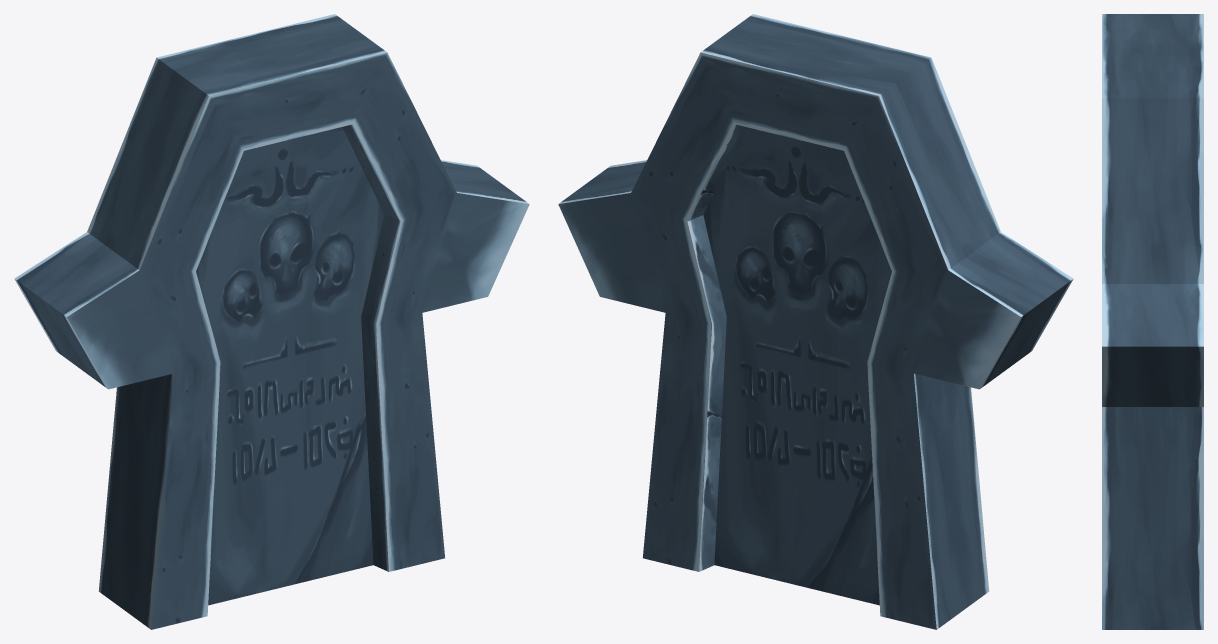
The model's file is SM_PROP_gravestone_v09_01.fbx.
3 views of the same model, side by side, from view 1: azimuth 30°, elevation 25°; view 2: azimuth 150°, elevation 25°; view 3: azimuth 270°, elevation 25° (orthographic). The views are drawn at different scales.
Visible parts, largest first — view 1: SM_PROP_gravestone_v09_01; view 2: SM_PROP_gravestone_v09_01; view 3: SM_PROP_gravestone_v09_01.
Part boxes in pixels (x1,y1,x2,y2): SM_PROP_gravestone_v09_01: (14, 14, 529, 629); SM_PROP_gravestone_v09_01: (558, 14, 1073, 629); SM_PROP_gravestone_v09_01: (1102, 14, 1203, 629).
Bounding box in the file's own units: 117 × 125 × 22.94.
